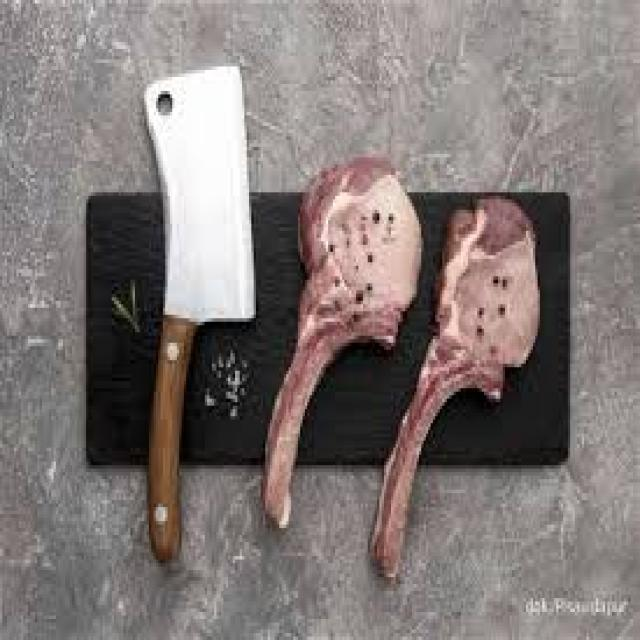Knife: (144, 63, 254, 563)
